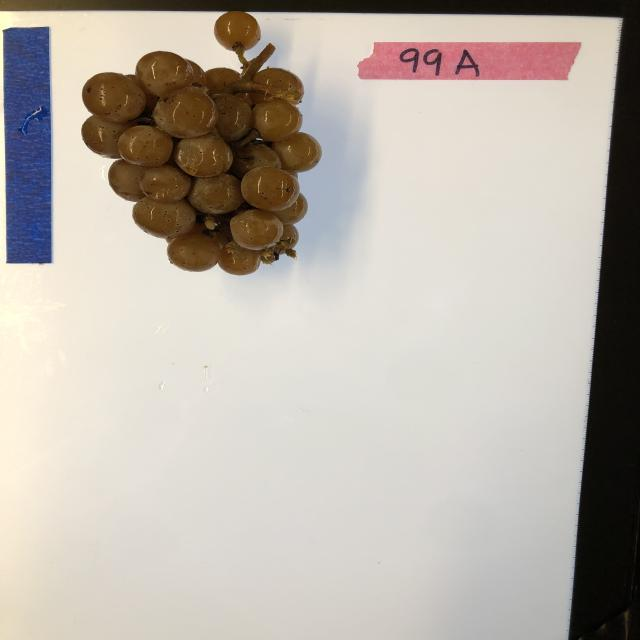grape_cluster: (80, 9, 323, 277)
index: (357, 40, 583, 82)
measure_label: (4, 26, 55, 267)
